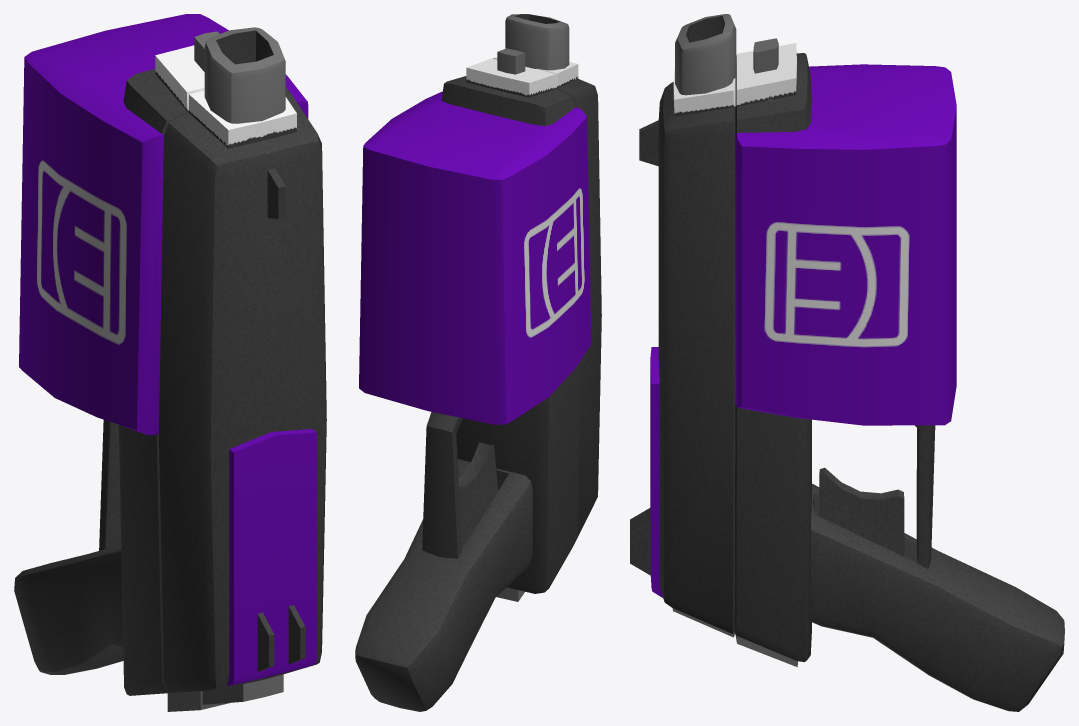
The model's file is paintball pistol.glb.
3 views of the same model, side by side, from view 1: azimuth 30°, elevation 25°; view 2: azimuth 150°, elevation 25°; view 3: azimuth 270°, elevation 25° (orthographic). The views are drawn at different scales.
Visible parts, largest first — view 1: PaintBall_Pistol_LOD0; view 2: PaintBall_Pistol_LOD0, Trigger_LOD0 #2328457; view 3: PaintBall_Pistol_LOD0, Trigger_LOD0 #2328457.
Part boxes in pixels (box(x1,y1,x2,y2)): PaintBall_Pistol_LOD0: box(14, 14, 326, 711); PaintBall_Pistol_LOD0: box(355, 14, 601, 711); Trigger_LOD0 #2328457: box(458, 442, 497, 547); PaintBall_Pistol_LOD0: box(630, 14, 1064, 711); Trigger_LOD0 #2328457: box(819, 467, 904, 556).
Size of the model in its own units: 0.0815 by 0.2849 by 0.1658.
Materials: 1 (1 with a texture image).
